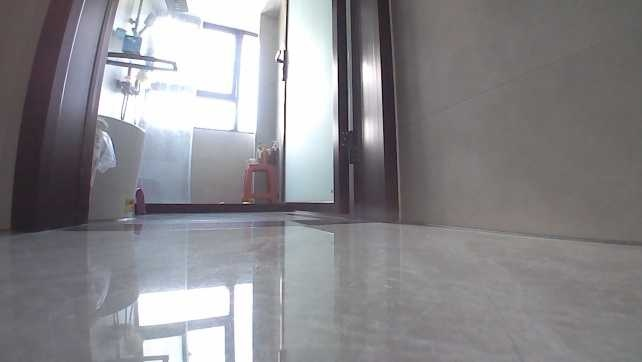door_anno: (272, 1, 373, 215)
toilet: (90, 112, 146, 221)
